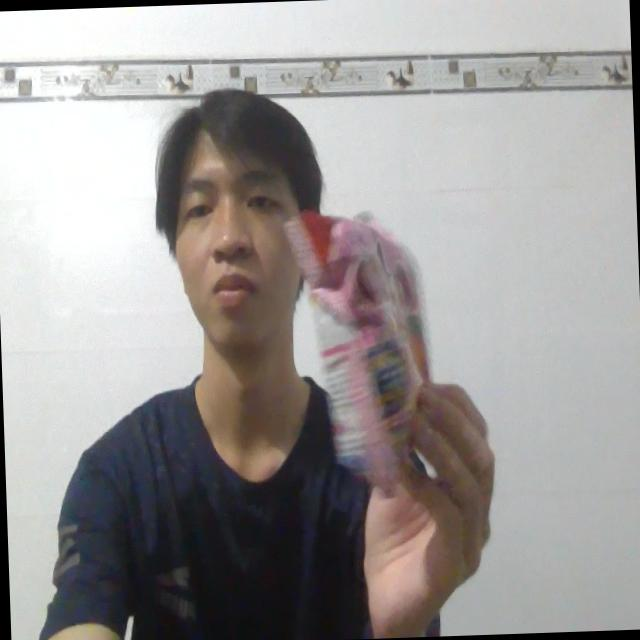mi hao hao: (264, 175, 483, 519)
